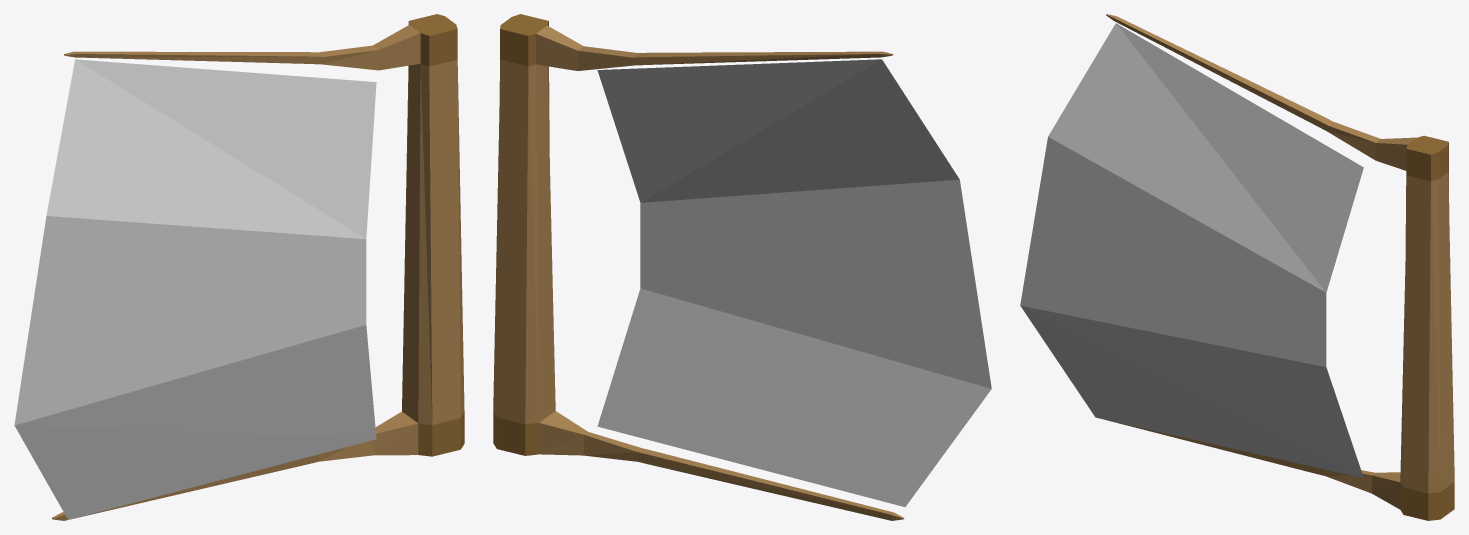
The model's file is obj_sail_1_0.obj.
The picture shows the model from 3 angles, left to right: view 1: azimuth 30°, elevation 25°; view 2: azimuth 150°, elevation 25°; view 3: azimuth 330°, elevation 25°; orthographic projection. The views are drawn at different scales.
Bounding box in the file's own units: 4.1 × 4.02 × 0.5781.
